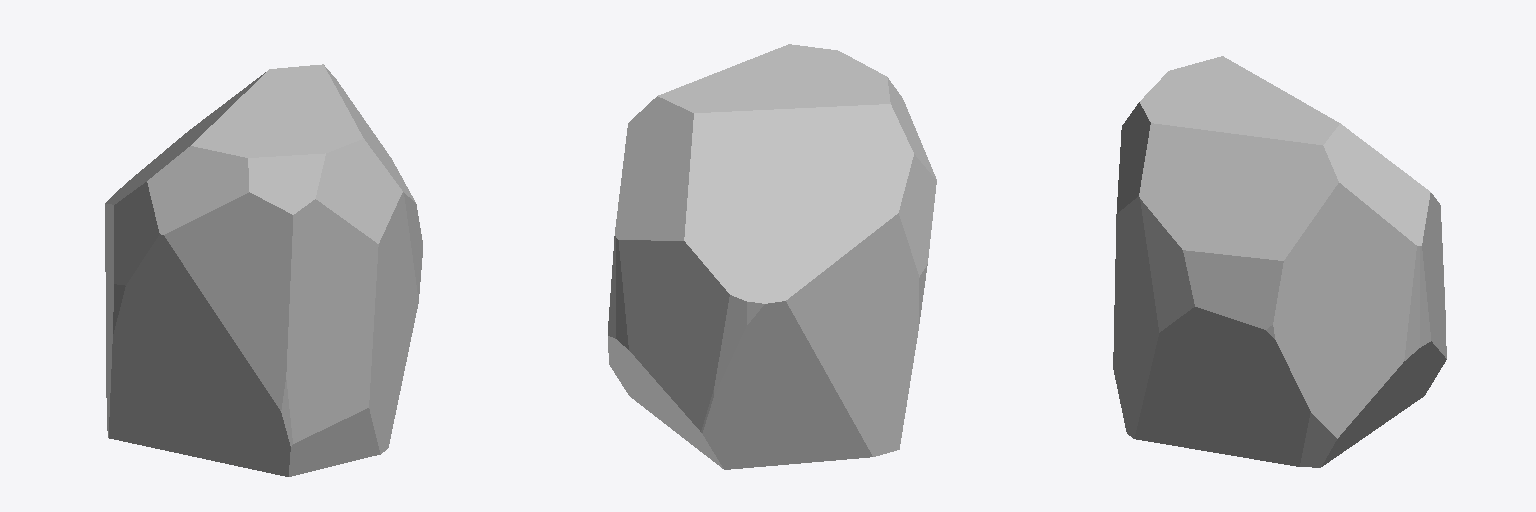
Rendered from middleStone1.obj.
3 views of the same model, side by side, from view 1: azimuth 30°, elevation 25°; view 2: azimuth 150°, elevation 25°; view 3: azimuth 270°, elevation 25° (orthographic).
Parts seen in each view (by area): view 1: Cylinder; view 2: Cylinder; view 3: Cylinder.
Part boxes in pixels (bbox=[...]): Cylinder: bbox=[105, 64, 422, 476]; Cylinder: bbox=[608, 44, 936, 469]; Cylinder: bbox=[1113, 56, 1446, 467].
Bounding box in the file's own units: 78.53 × 78.74 × 77.27.